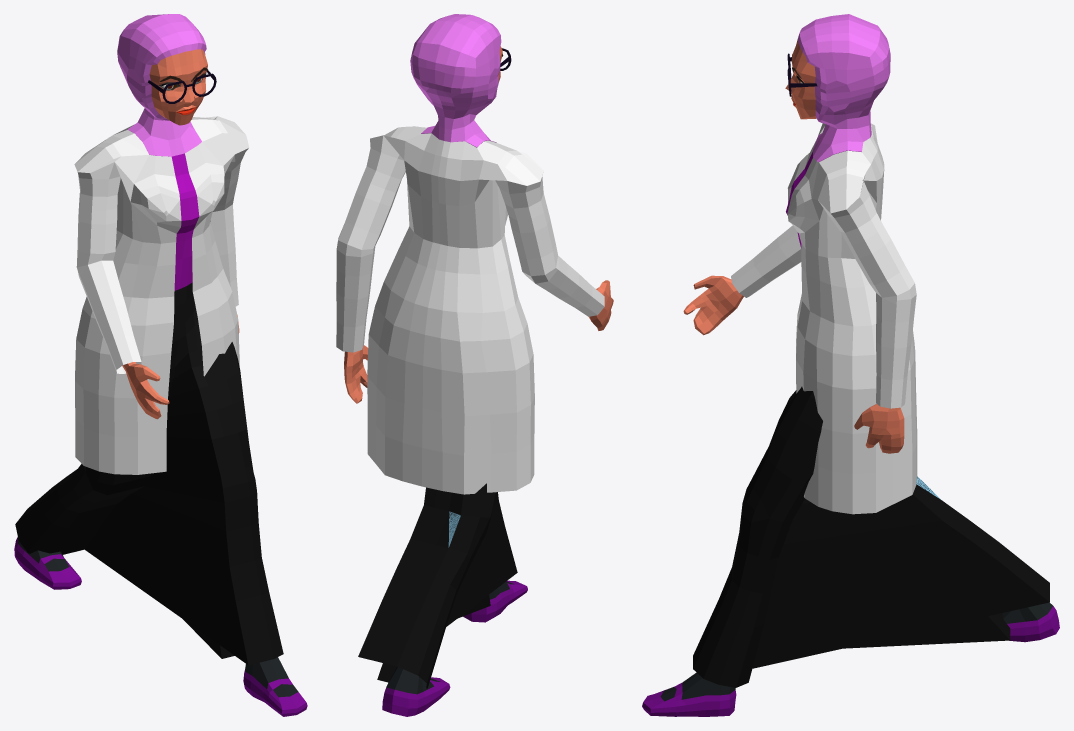
Rendered from ScientistFemale_B_Walk.fbx.
3 views of the same model, side by side, from view 1: azimuth 30°, elevation 25°; view 2: azimuth 150°, elevation 25°; view 3: azimuth 270°, elevation 25° (orthographic). The views are drawn at different scales.
Parts seen in each view (by area): view 1: ScientistFemale_B_Walk; view 2: ScientistFemale_B_Walk; view 3: ScientistFemale_B_Walk.
Part boxes in pixels (x1=…): ScientistFemale_B_Walk: x1=14, y1=14, x2=307, y2=716; ScientistFemale_B_Walk: x1=336, y1=14, x2=613, y2=716; ScientistFemale_B_Walk: x1=642, y1=14, x2=1059, y2=716.
Size of the model in its own units: 0.2819 by 0.8973 by 0.5064.
